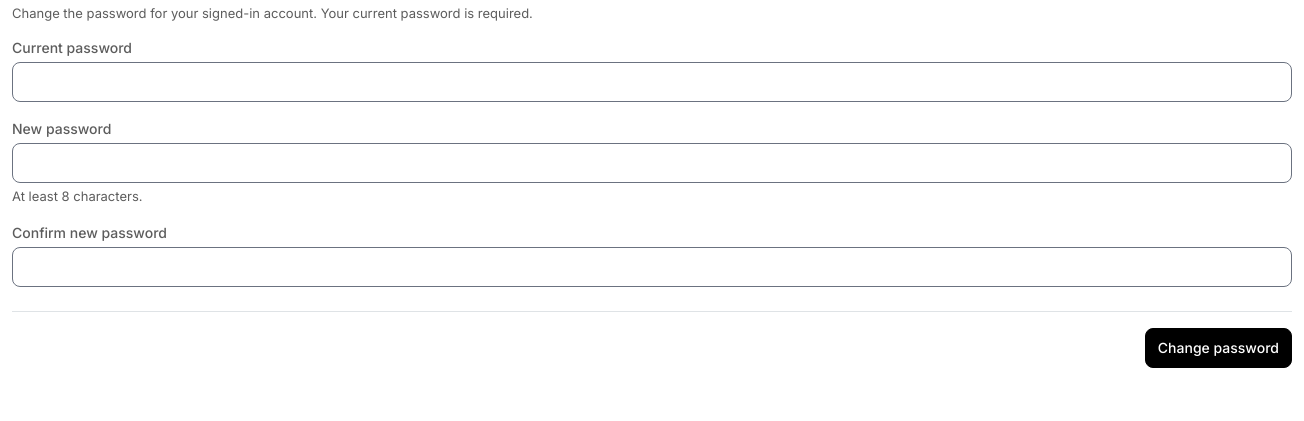
Test: AccountTab › server error (wrong current) surfaces the detail message
The width and height of the screenshot is (1304, 421).
Type "WRONG" into the password field named "current password". click: (652, 82)
box: [12,62,1292,102]
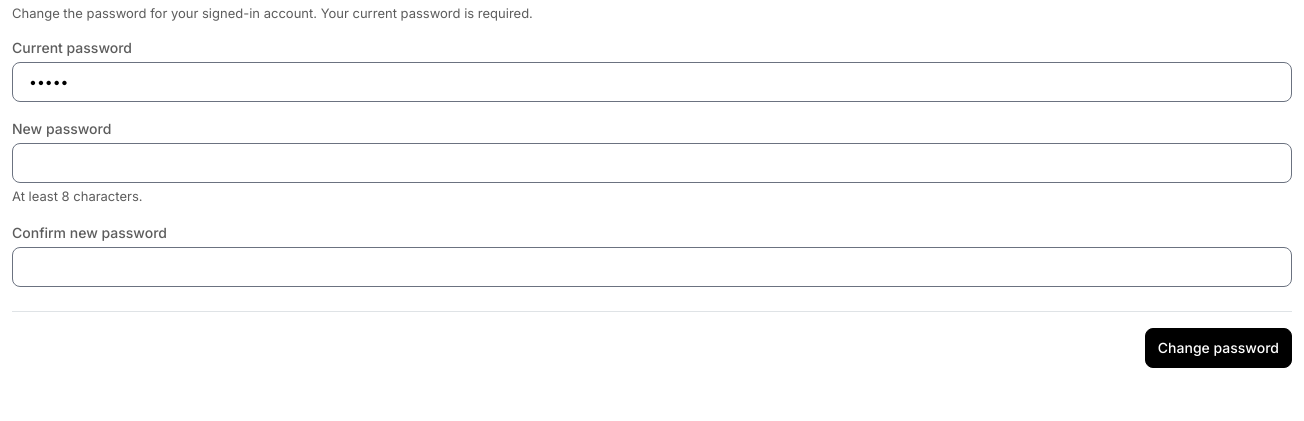
Type "brand-new-password" into the password field named "new password". click: (652, 162)
box: [12,142,1292,182]
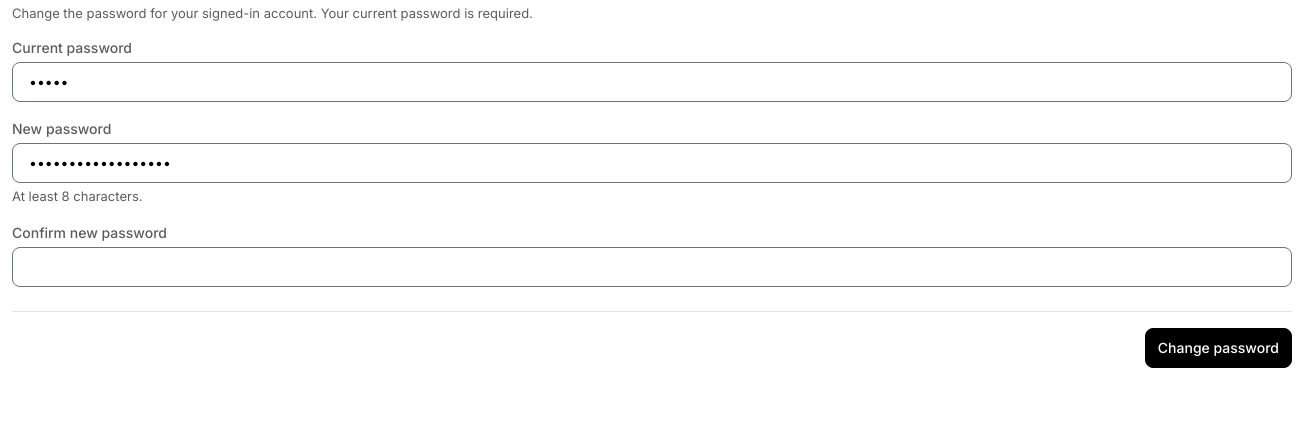
Type "brand-new-password" into the password field named "confirm new password". click: (652, 267)
box: [12,247,1292,287]
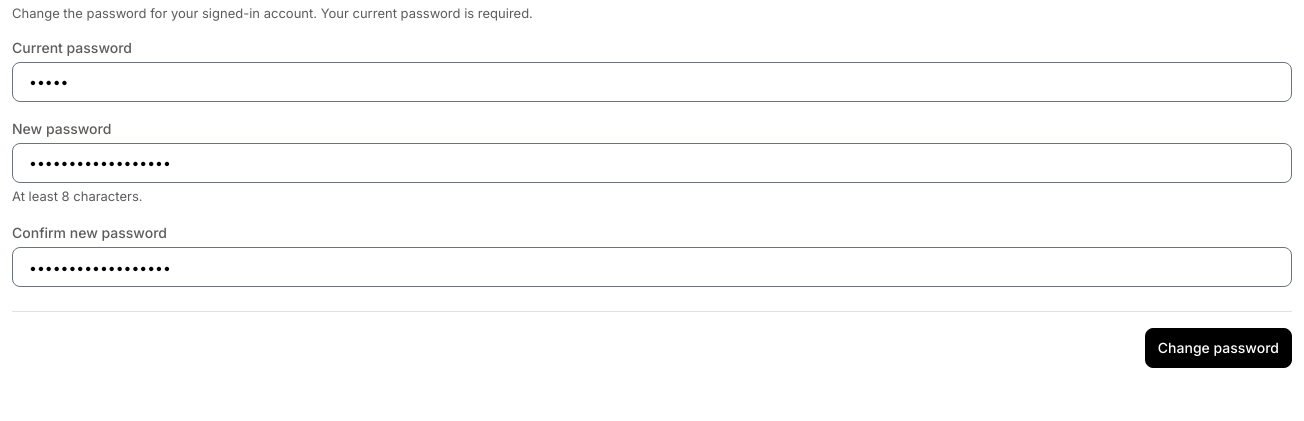
Click the button "Change password". click: (1218, 348)
box: [1145,328,1292,368]
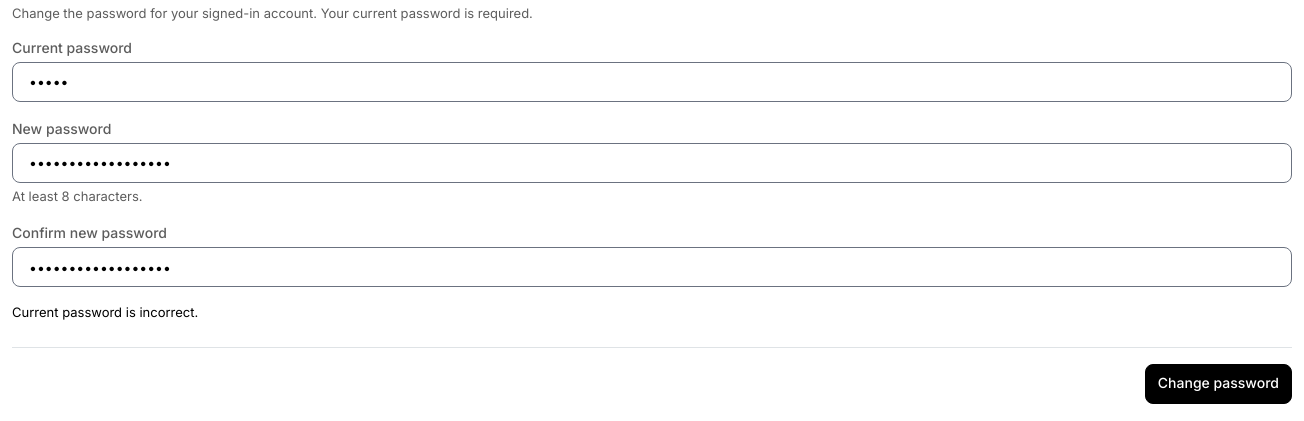
Check: the text "Current password is incorrect." is shown, box [12,304,198,320]
